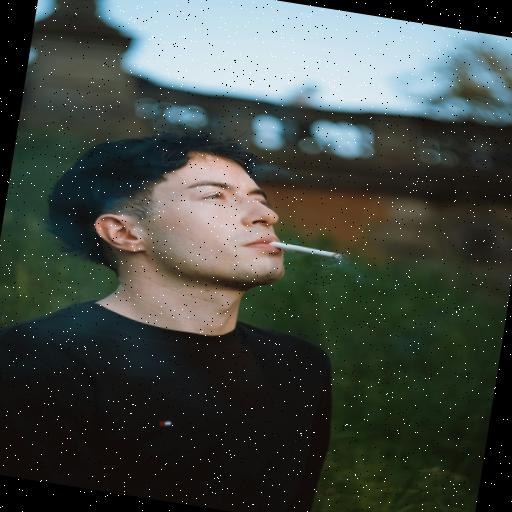terdeteksi merokok: (193, 142, 366, 305)
